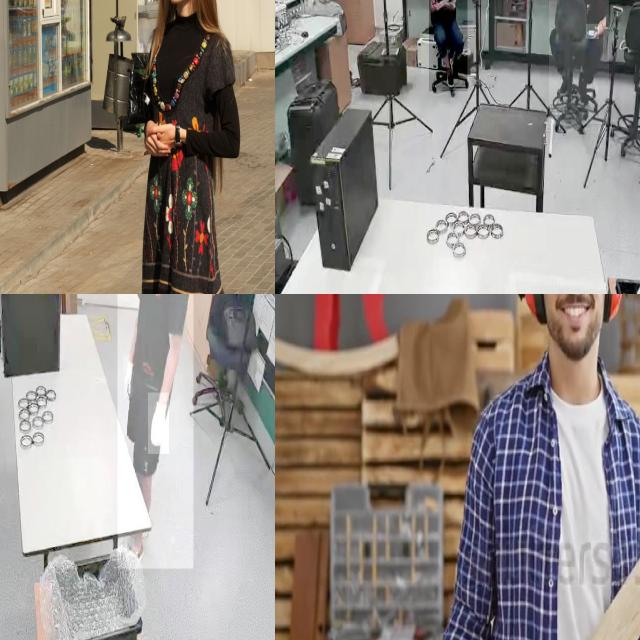Ear-protection: (514, 294, 549, 325), (606, 294, 628, 324)
hand_glove: (148, 392, 170, 454), (124, 354, 134, 399)
hand_noglove: (586, 24, 600, 40)
person: (460, 294, 640, 640), (117, 294, 194, 569), (548, 0, 609, 125), (429, 0, 468, 92)
shoes: (554, 66, 570, 100), (444, 64, 456, 90)
